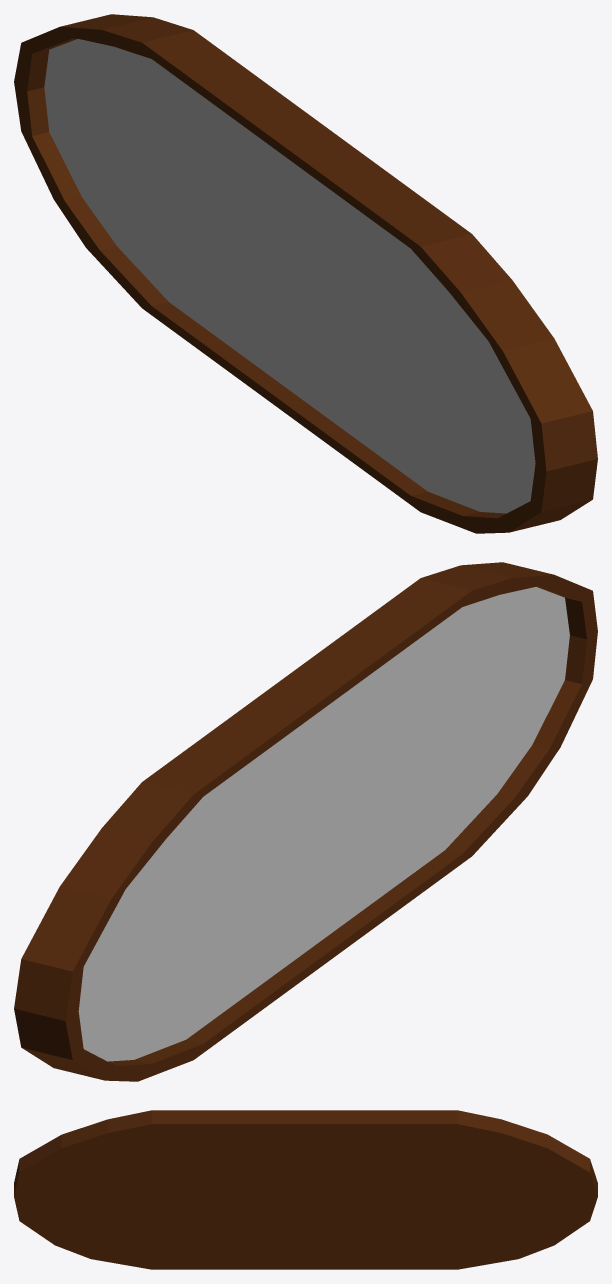
File: sign.fbx
3 views of the same model, one above another, from view 1: azimuth 30°, elevation 25°; view 2: azimuth 150°, elevation 25°; view 3: azimuth 270°, elevation 25° (orthographic). The views are drawn at different scales.
Parts seen in each view (by area): view 1: sign; view 2: sign; view 3: sign.
Boxes of the visible parts, x1,y1,x2,y2 form: sign: [14, 14, 597, 533]; sign: [14, 562, 597, 1081]; sign: [14, 1110, 597, 1269].
Bounding box in the file's own units: 11.27 × 55.51 × 202.
